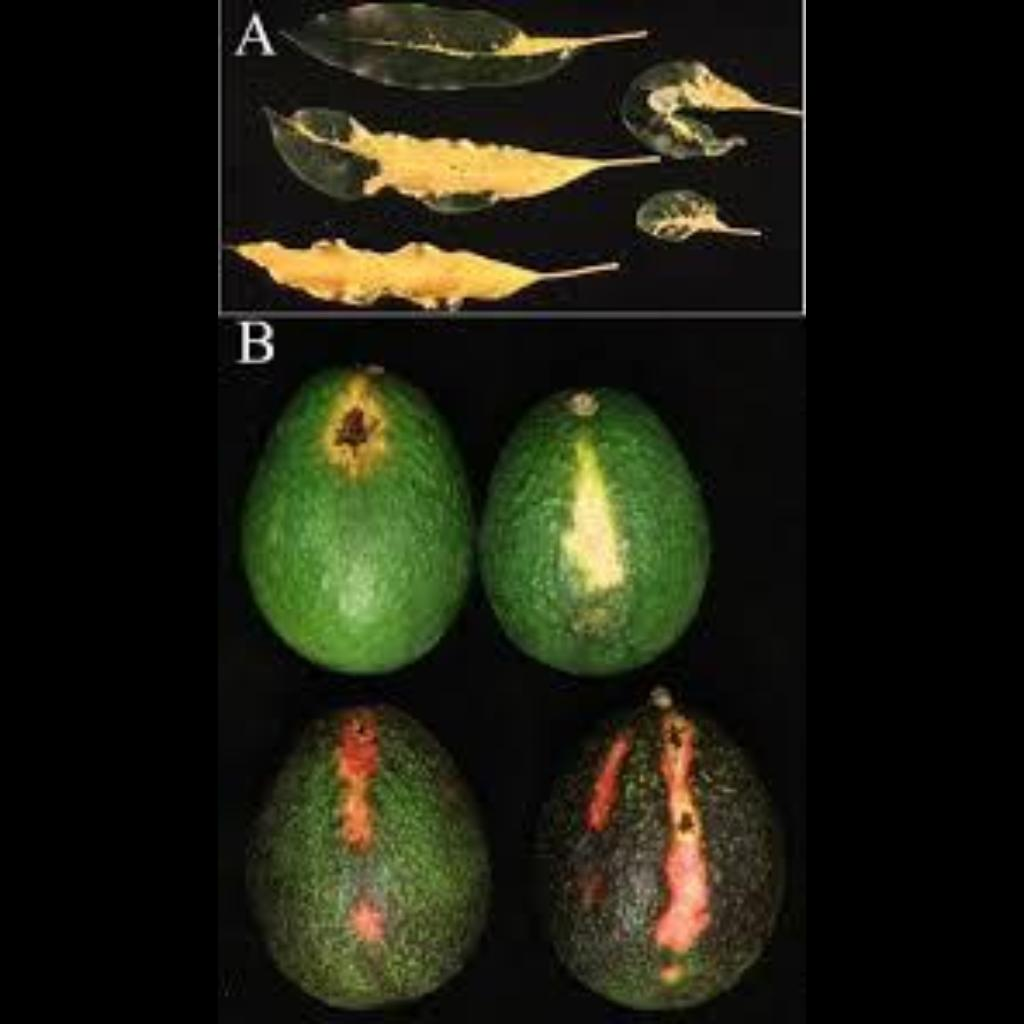sunblotch: (493, 695, 797, 1024), (219, 701, 510, 1012), (231, 351, 494, 683), (469, 363, 722, 681)
